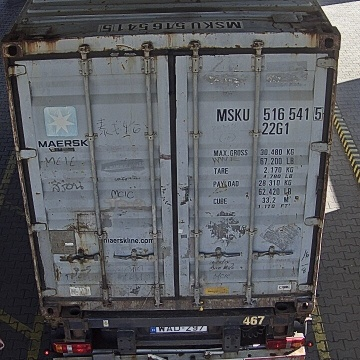serial_id: (217, 106, 323, 120)
